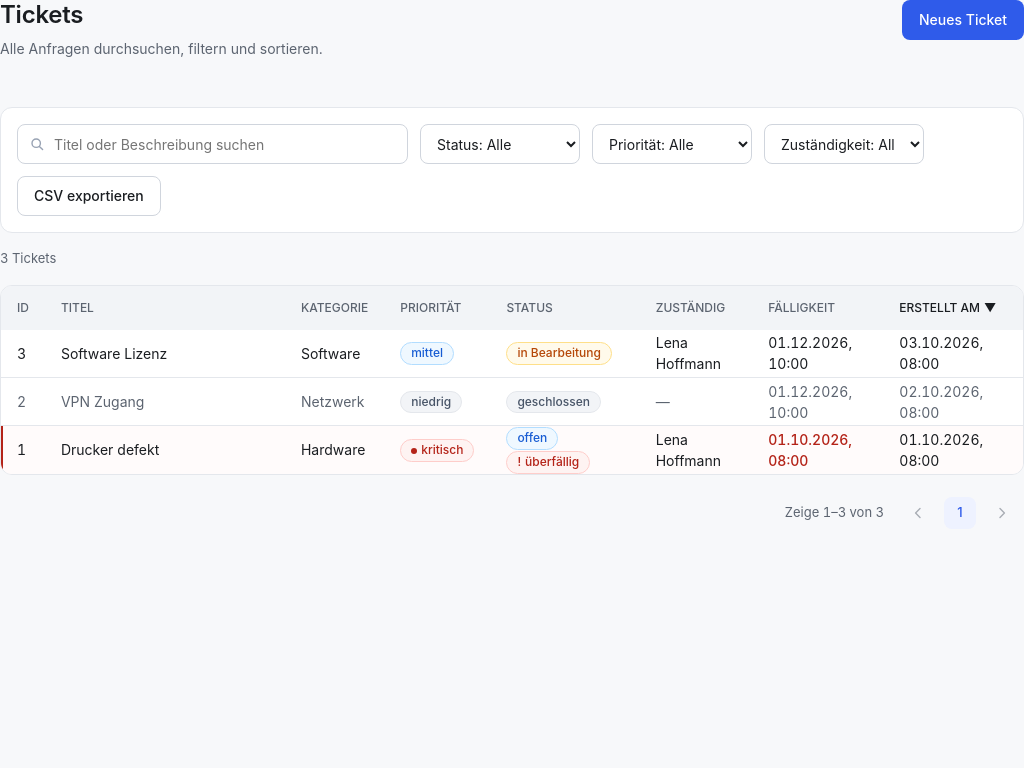
Scenario: TicketsPage › creates a ticket, shows a success message and refreshes the list
Expected: the text "Drucker defekt" is shown, [45, 426, 285, 474]
Click the button "Neues Ticket". click: (963, 20)
box: [902, 0, 1023, 40]
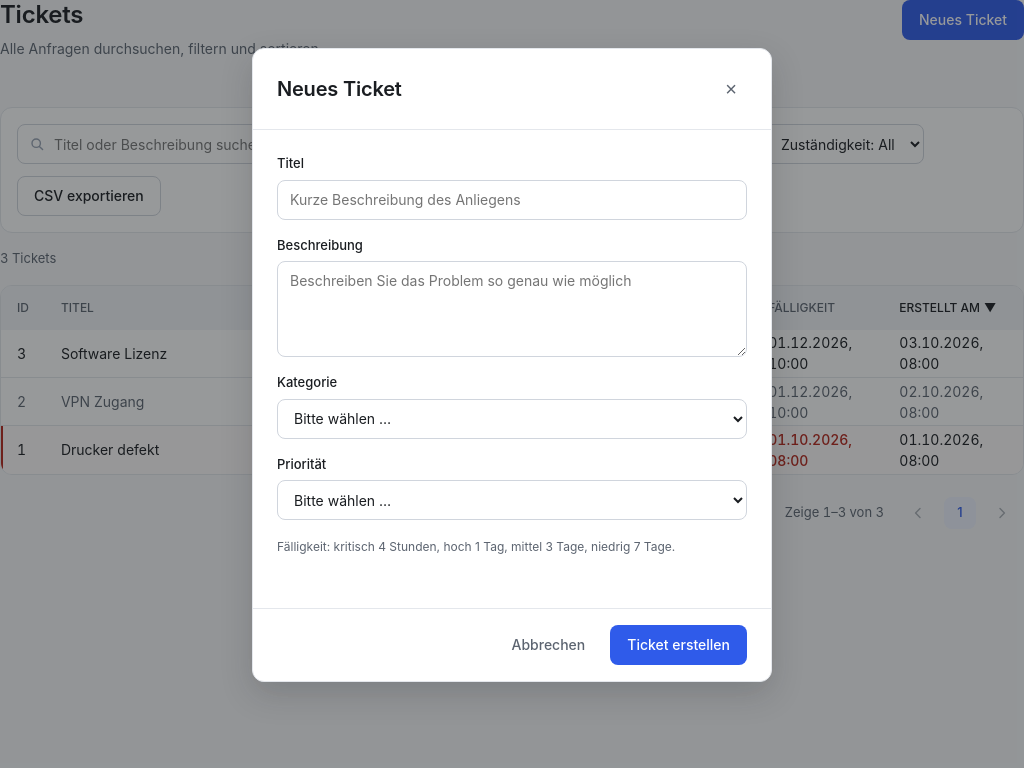
Type "Neues Anliegen" into the field labelled "Titel". click: (512, 200)
box: [277, 180, 747, 220]
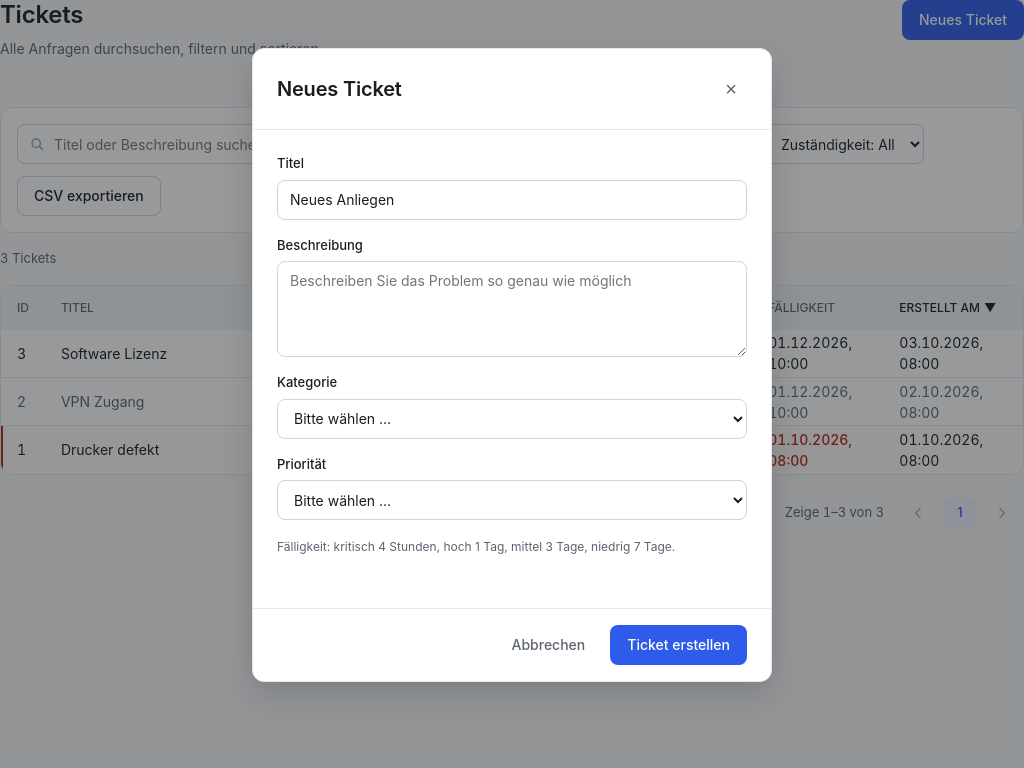
Type "Bitte um Hilfe." into the text box labelled "Beschreibung". click: (512, 309)
box: [277, 261, 747, 357]
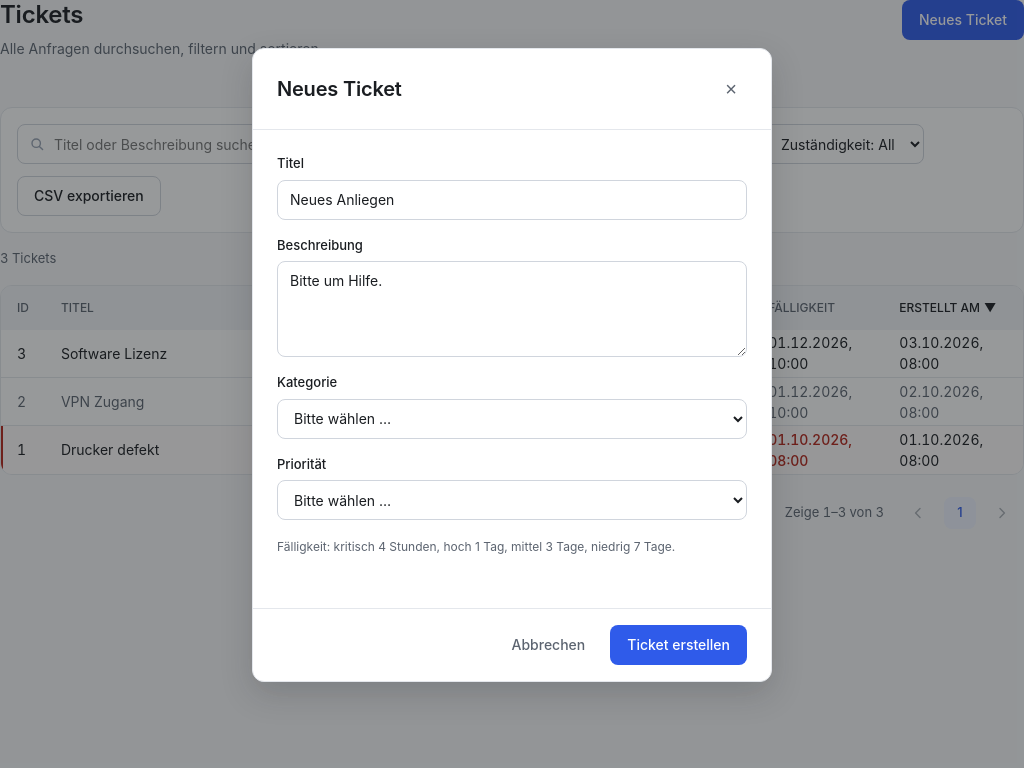
Select "Netzwerk" in the dropdown labelled "Kategorie". click: (512, 418)
box: [277, 398, 747, 438]
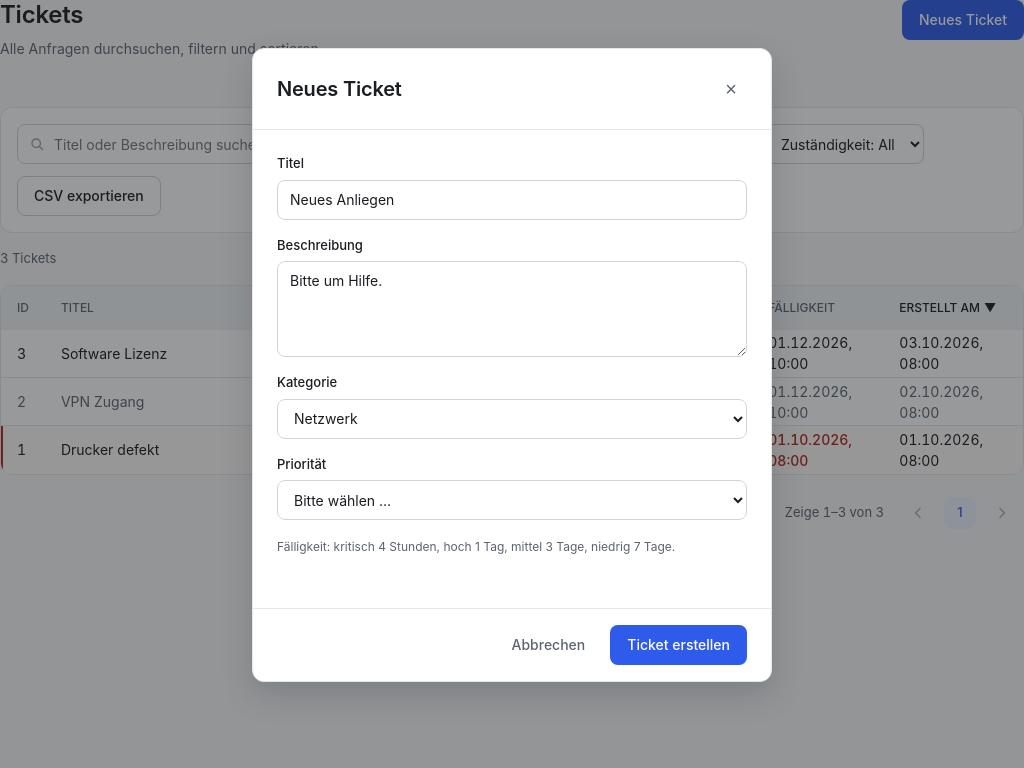
Select "hoch" in the dropdown labelled "Priorität". click: (512, 500)
box: [277, 480, 747, 520]
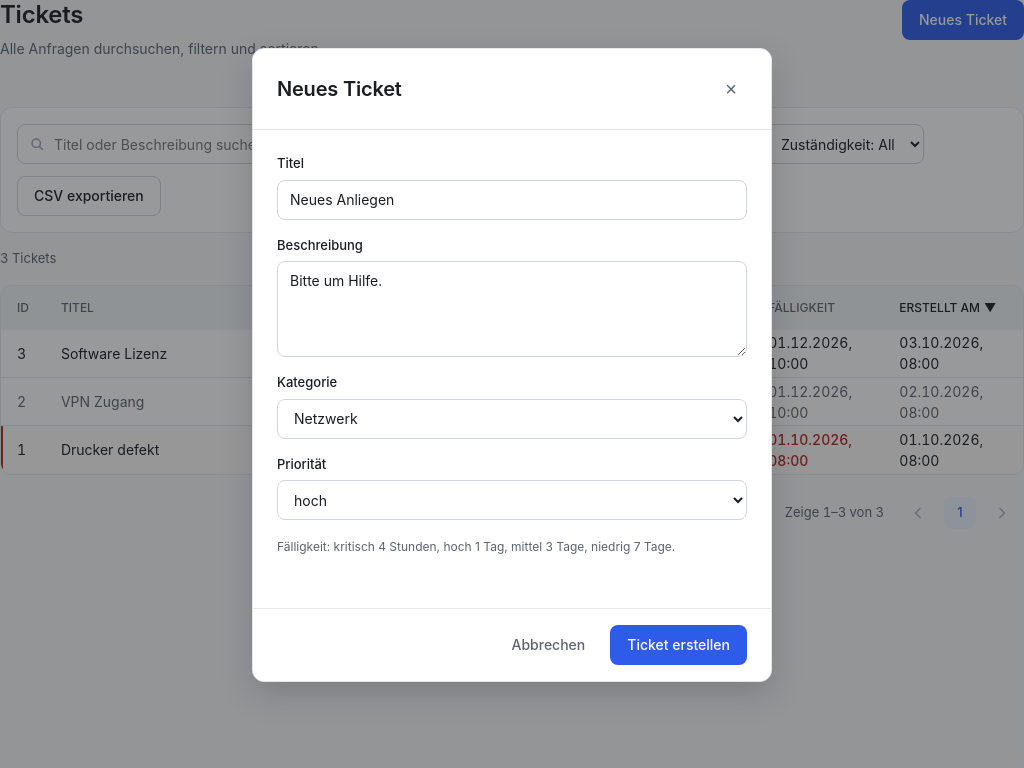
Click the button "Ticket erstellen". click: (679, 645)
box: [610, 625, 747, 665]
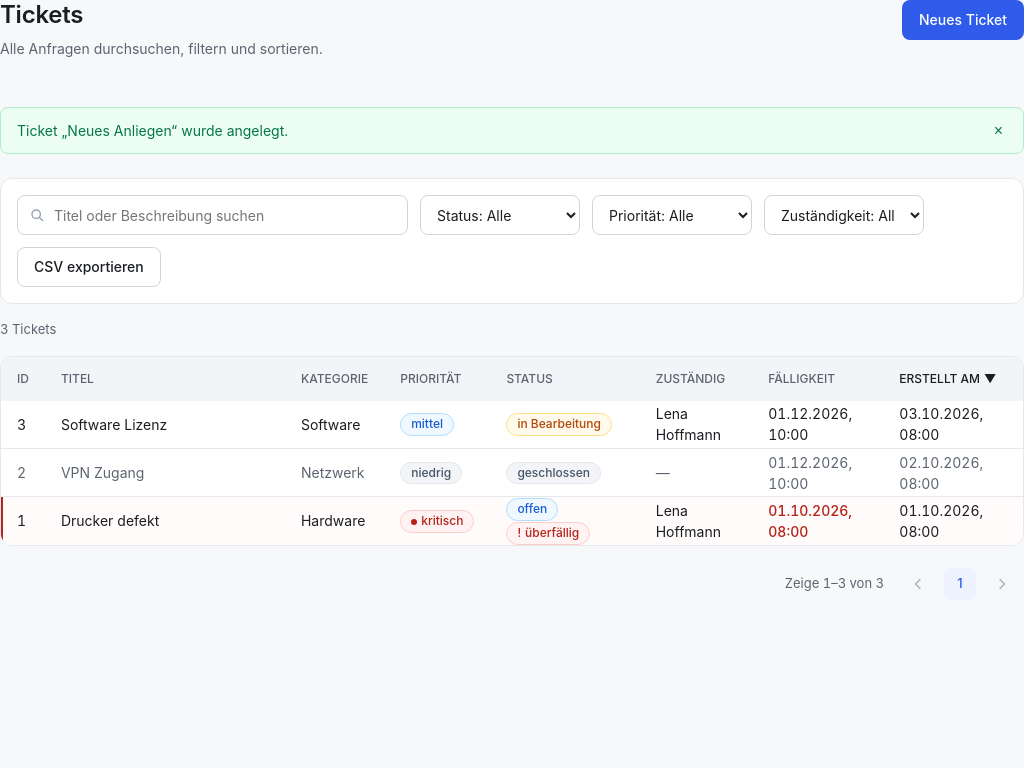
Result: the text "Ticket „Neues Anliegen“ wurde angelegt." is shown at [17, 120, 288, 141]
